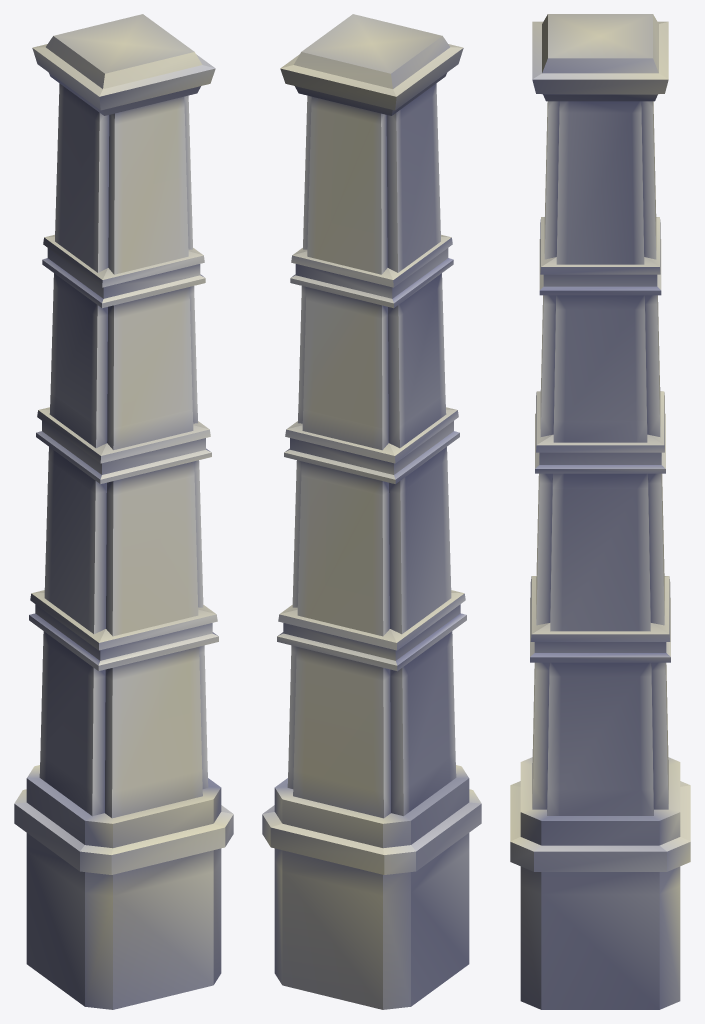
File: SquarePillarTall.gltf
3 views of the same model, side by side, from view 1: azimuth 30°, elevation 25°; view 2: azimuth 150°, elevation 25°; view 3: azimuth 270°, elevation 25° (orthographic).
Parts seen in each view (by area): view 1: SquarePillarTallMesh; view 2: SquarePillarTallMesh; view 3: SquarePillarTallMesh.
Boxes of the visible parts, x1,y1,x2,y2 form: SquarePillarTallMesh: (14, 14, 233, 1009); SquarePillarTallMesh: (262, 14, 481, 1009); SquarePillarTallMesh: (510, 14, 690, 1009).
Bounding box in the file's own units: 1.74 × 10 × 1.74.
